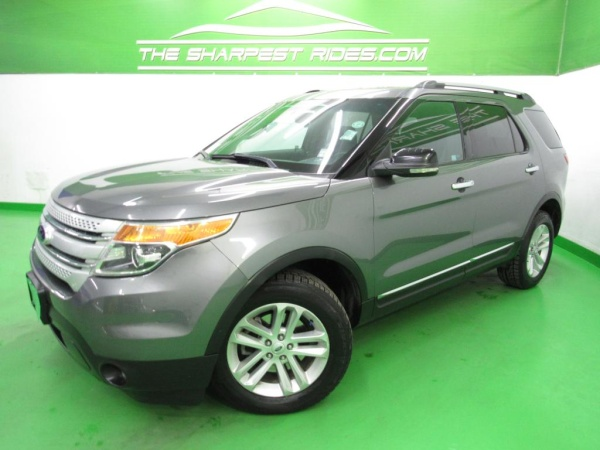Ford Explorer: (24, 80, 574, 417)
